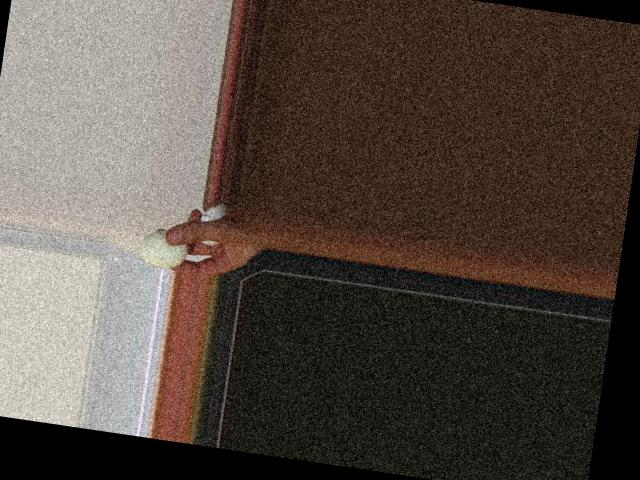egg: (137, 226, 189, 272)
